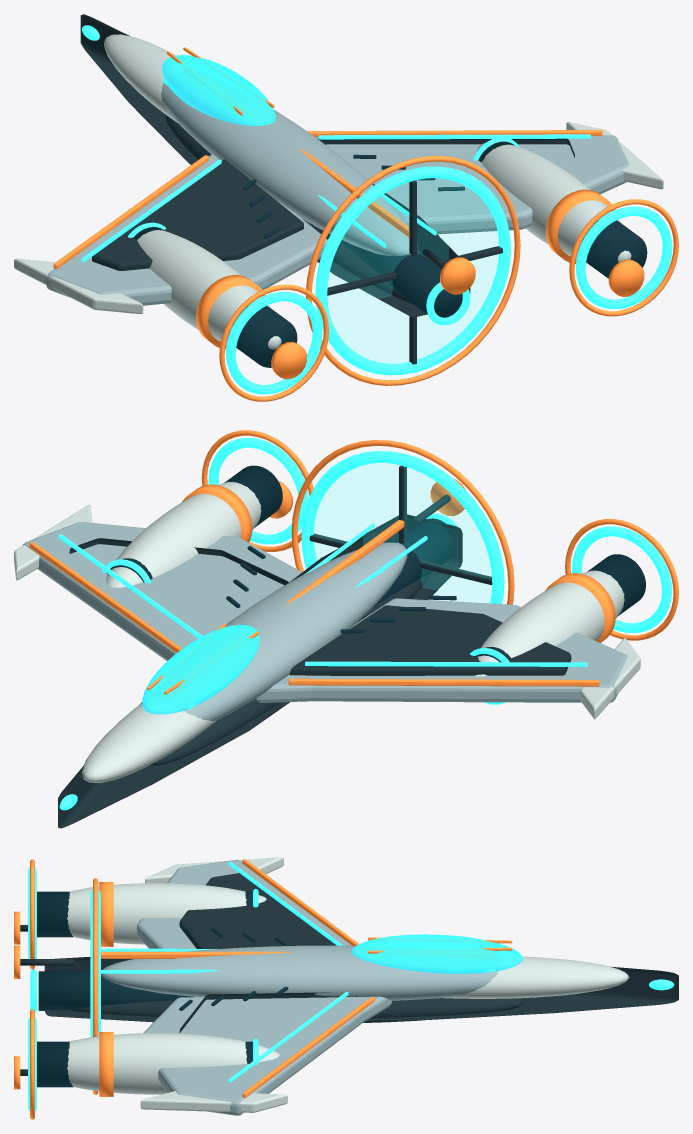
The model's file is orbitgo-warp-lancer.glb.
3 renders of one model, top to bottom at view 1: azimuth 30°, elevation 25°; view 2: azimuth 150°, elevation 25°; view 3: azimuth 270°, elevation 25°, orthographic. The views are drawn at different scales.
Visible parts, largest first — view 1: HullTitaniumMerged, GraphiteArmorMerged, PearlCeramicMerged, NavigationGlowMerged, WarpFieldPart, CopperTrimMerged, InsetMetalMerged, CockpitGlassPart, CopperTrimMerged.001; view 2: HullTitaniumMerged, GraphiteArmorMerged, PearlCeramicMerged, NavigationGlowMerged, CopperTrimMerged, WarpFieldPart, InsetMetalMerged, CockpitGlassPart, CopperTrimMerged.001; view 3: HullTitaniumMerged, PearlCeramicMerged, GraphiteArmorMerged, CopperTrimMerged, InsetMetalMerged, CockpitGlassPart, NavigationGlowMerged, CopperTrimMerged.001, GraphiteArmorMerged.001.
Part boxes in pixels (x1,y1,x2,y2): HullTitaniumMerged: (46, 83, 629, 305); GraphiteArmorMerged: (80, 14, 574, 364); PearlCeramicMerged: (14, 34, 663, 349); NavigationGlowMerged: (81, 25, 672, 394); WarpFieldPart: (328, 178, 497, 362); CopperTrimMerged: (53, 47, 678, 401); InsetMetalMerged: (133, 141, 647, 367); CockpitGlassPart: (162, 55, 275, 125); CopperTrimMerged.001: (271, 257, 644, 379); HullTitaniumMerged: (23, 522, 627, 720); GraphiteArmorMerged: (58, 465, 571, 828); PearlCeramicMerged: (14, 482, 640, 782); NavigationGlowMerged: (58, 438, 671, 810); CopperTrimMerged: (29, 430, 678, 694); WarpFieldPart: (312, 464, 490, 602); InsetMetalMerged: (106, 465, 645, 662); CockpitGlassPart: (142, 624, 260, 714); CopperTrimMerged.001: (270, 478, 465, 518); HullTitaniumMerged: (101, 859, 497, 1115); PearlCeramicMerged: (67, 857, 629, 1112); GraphiteArmorMerged: (44, 873, 678, 1033); CopperTrimMerged: (30, 859, 512, 1119); InsetMetalMerged: (37, 891, 288, 1087); CockpitGlassPart: (351, 934, 522, 973); NavigationGlowMerged: (28, 862, 674, 1111); CopperTrimMerged.001: (14, 911, 20, 1089); GraphiteArmorMerged.001: (20, 925, 73, 1075).
Bounding box in the file's own units: 9.17 × 3.4 × 10.42.
